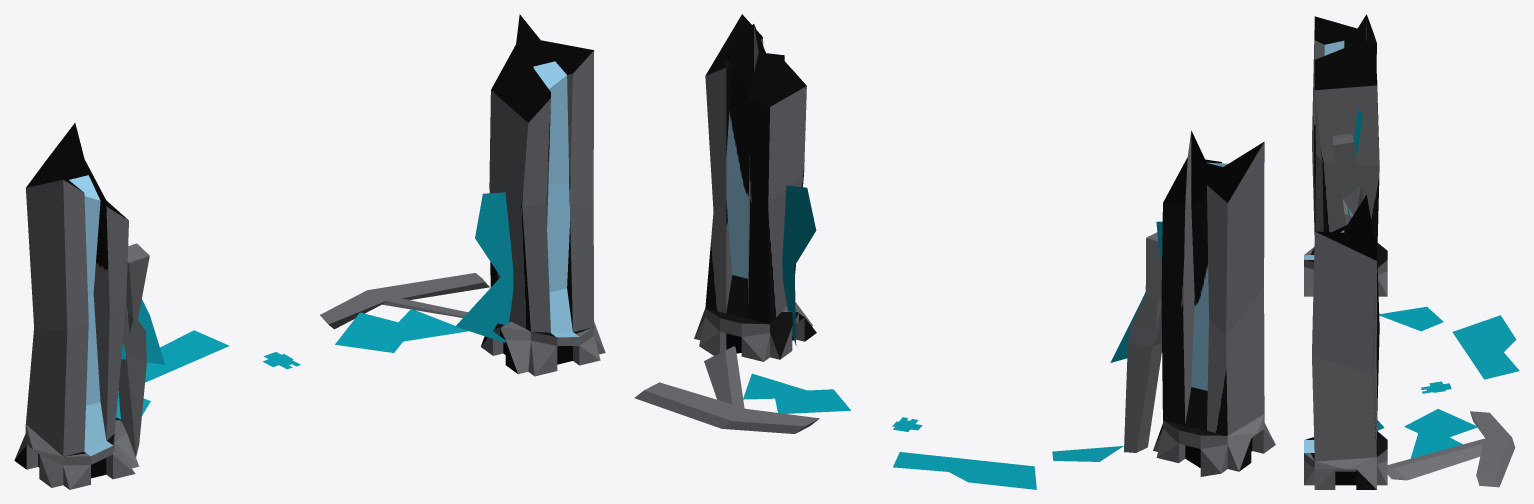
Rendered from Broken BreakableFence.fbx.
3 renders of one model, left to right at view 1: azimuth 30°, elevation 25°; view 2: azimuth 150°, elevation 25°; view 3: azimuth 270°, elevation 25°, orthographic. The views are drawn at different scales.
Parts seen in each view (by area): view 1: Fence Stick 2 Broken.001, Fence Stick Broken.001, Fence Plane Broken.002, Fence Union Broken.001, Fence Union 2 Broken.001; view 2: Fence Stick Broken.001, Fence Stick 2 Broken.001, Fence Plane Broken.002, Fence Union 2 Broken.001, Fence Union Broken.001; view 3: Fence Stick 2 Broken.001, Fence Stick Broken.001, Fence Plane Broken.002, Fence Union 2 Broken.001, Fence Union Broken.001.
Boxes of the visible parts, x1,y1,x2,y2 form: Fence Stick 2 Broken.001: (481, 14, 605, 376); Fence Stick Broken.001: (14, 123, 138, 489); Fence Plane Broken.002: (116, 192, 513, 419); Fence Union Broken.001: (118, 243, 149, 456); Fence Union 2 Broken.001: (320, 273, 489, 329); Fence Stick Broken.001: (1153, 130, 1275, 476); Fence Stick 2 Broken.001: (694, 14, 816, 361); Fence Plane Broken.002: (743, 185, 1162, 489); Fence Union 2 Broken.001: (634, 345, 819, 433); Fence Union Broken.001: (1124, 232, 1161, 452); Fence Stick 2 Broken.001: (1304, 195, 1387, 489); Fence Stick Broken.001: (1304, 14, 1387, 296); Fence Plane Broken.002: (1347, 108, 1519, 458); Fence Union 2 Broken.001: (1387, 411, 1515, 487); Fence Union Broken.001: (1332, 133, 1363, 224).
Bounding box in the file's own units: 3.34 × 1.97 × 1.36.
